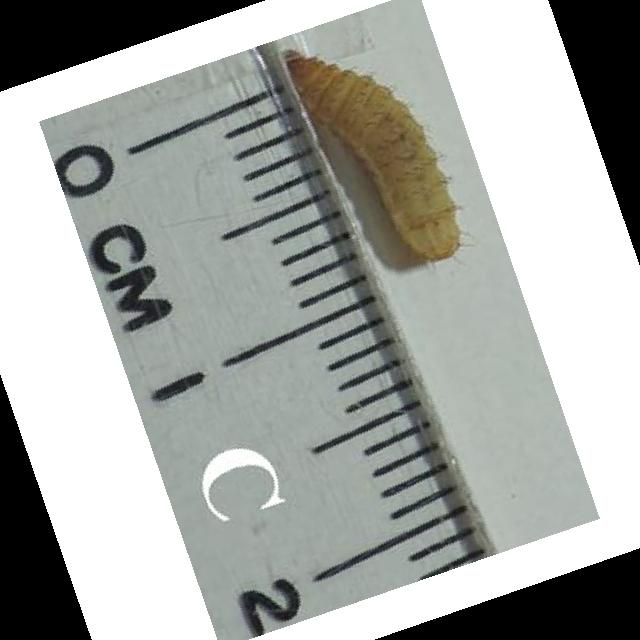Maggot: (279, 45, 465, 263)
